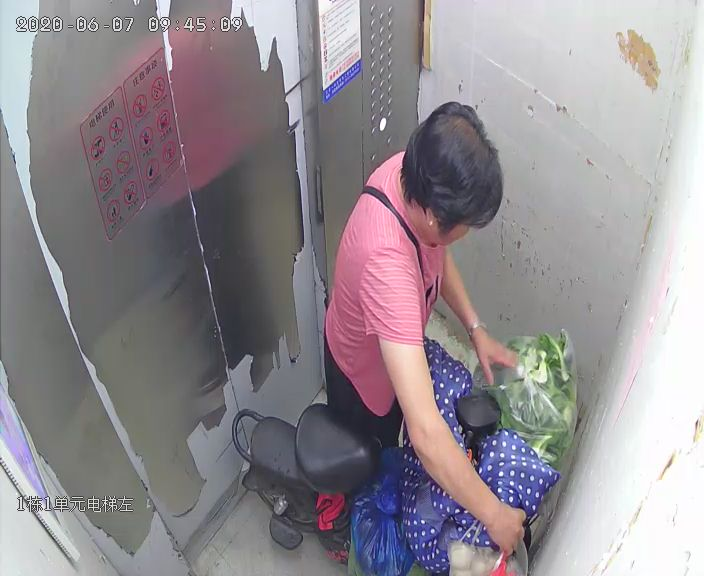Electric-bicycle: (232, 329, 580, 559)
